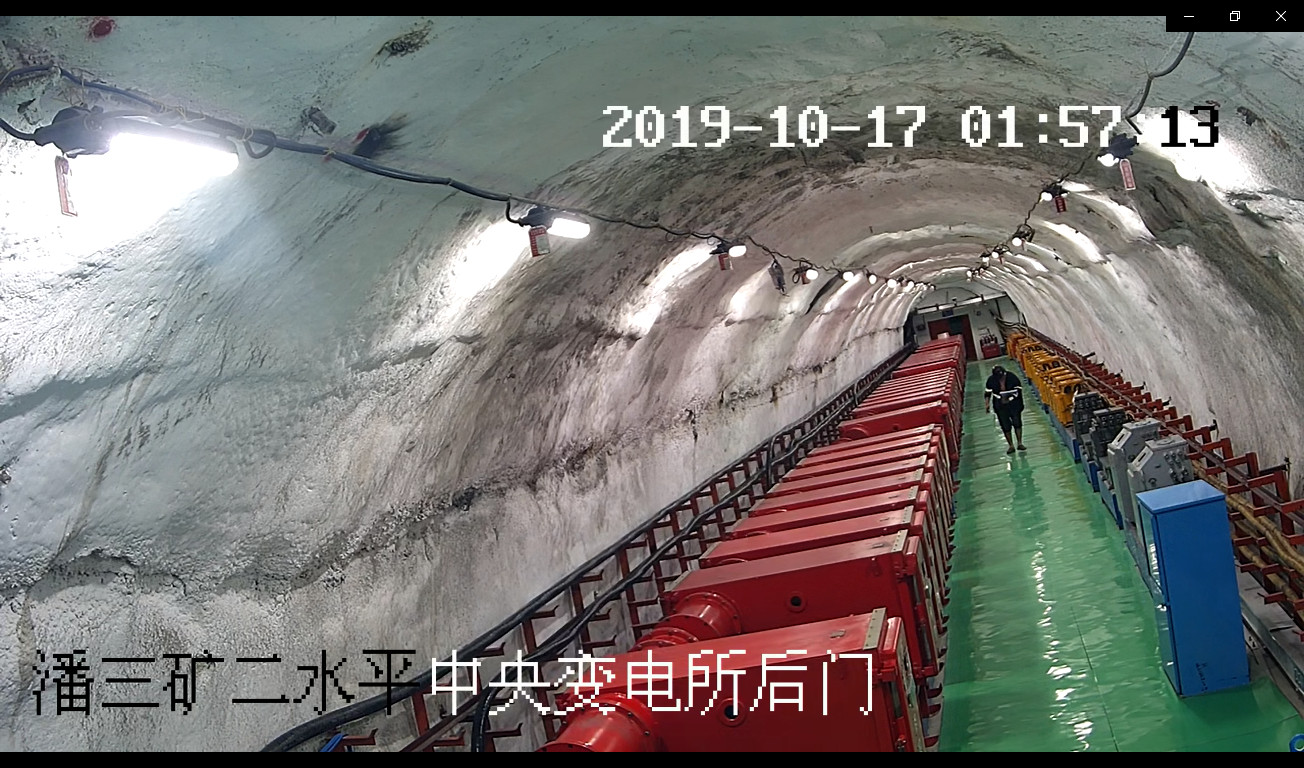helmet: (991, 365, 1005, 377)
